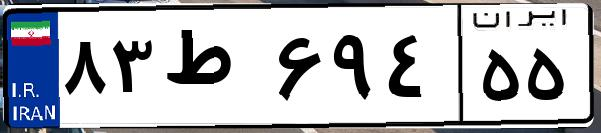3: (110, 28, 158, 98)
4: (385, 28, 445, 110)
5: (475, 38, 525, 113), (525, 38, 570, 115)
6: (270, 28, 330, 110)
8: (57, 26, 110, 100)
9: (330, 28, 385, 110)
ط: (158, 20, 270, 120)
